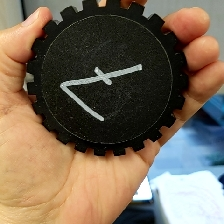gear: (25, 1, 191, 158)
